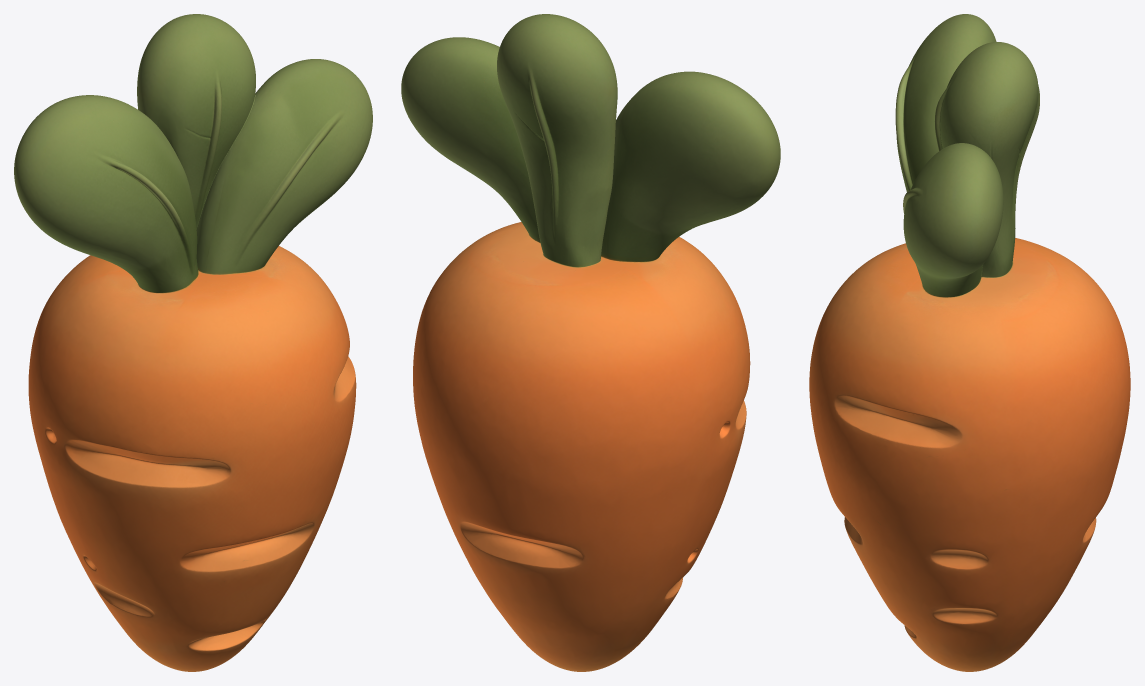
File: carrot.glb
The picture shows the model from 3 angles, left to right: view 1: azimuth 30°, elevation 25°; view 2: azimuth 150°, elevation 25°; view 3: azimuth 270°, elevation 25°; orthographic projection. The views are drawn at different scales.
Bounding box in the file's own units: 1.11 × 1.9 × 0.8834.
1 material, 1 textured.
